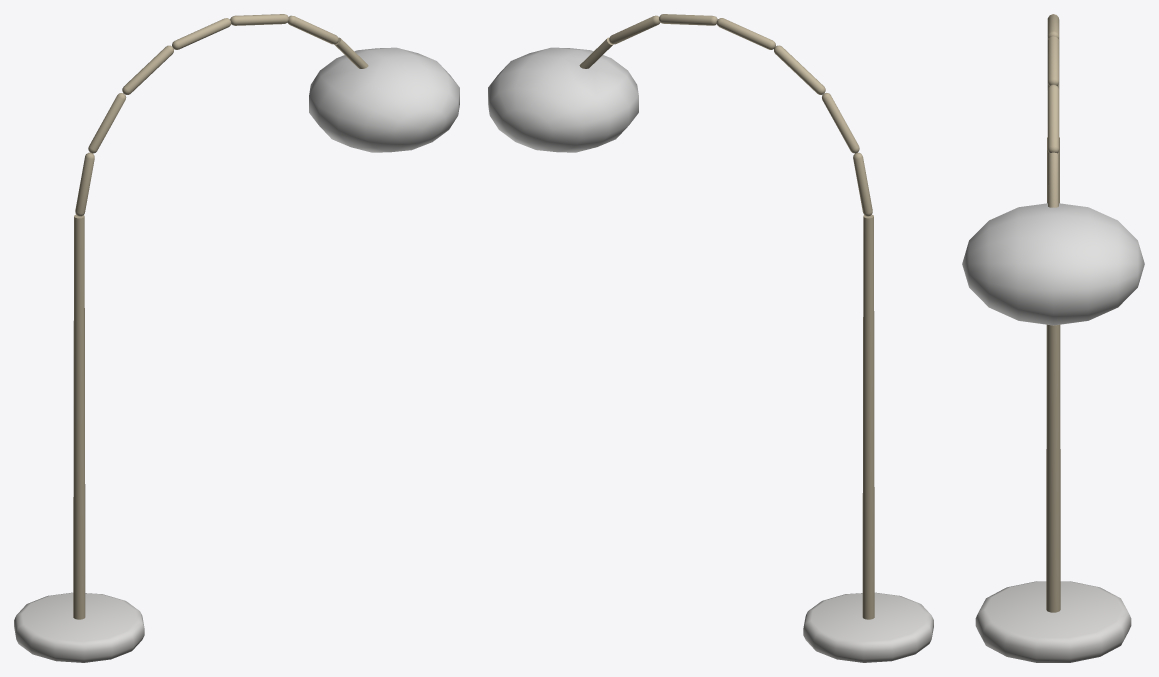
The model's file is white_arc_lamp.glb.
3 renders of one model, left to right at view 1: azimuth 30°, elevation 25°; view 2: azimuth 150°, elevation 25°; view 3: azimuth 270°, elevation 25°, orthographic. The views are drawn at different scales.
Visible parts, largest first — view 1: white_arc_lamp; view 2: white_arc_lamp; view 3: white_arc_lamp.
Boxes of the visible parts, x1,y1,x2,y2 form: white_arc_lamp: [14, 14, 459, 662]; white_arc_lamp: [488, 14, 933, 662]; white_arc_lamp: [962, 14, 1144, 662].
Bounding box in the file's own units: 1.27 × 1.66 × 0.4.
